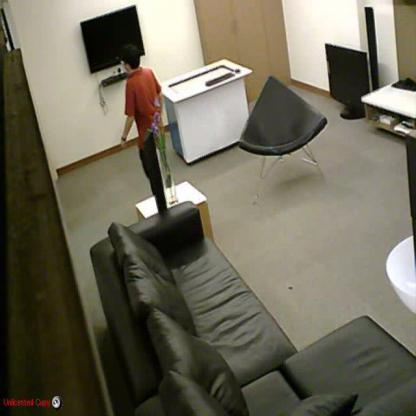Person: (119, 45, 170, 212)
